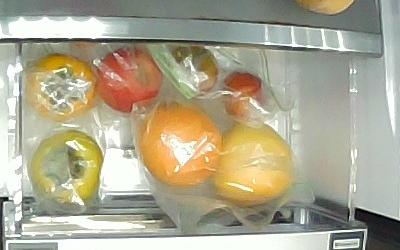apple_vinyl: (96, 47, 163, 113)
grapefruit_vinyl: (139, 104, 222, 187), (214, 121, 294, 205)
persimmon_vinyl: (29, 129, 103, 204), (25, 53, 96, 122)
prune_vinyl: (174, 45, 219, 96), (219, 71, 264, 117)
